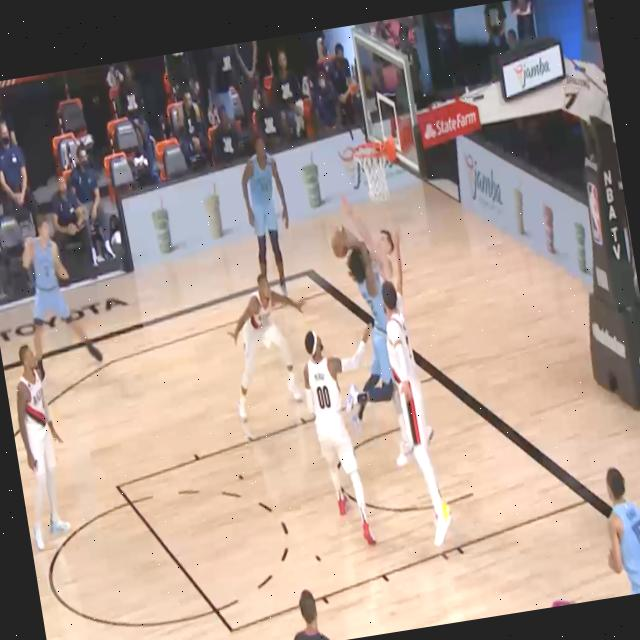foul: (320, 180, 440, 470)
no foul: (282, 308, 402, 573), (371, 275, 470, 558)
